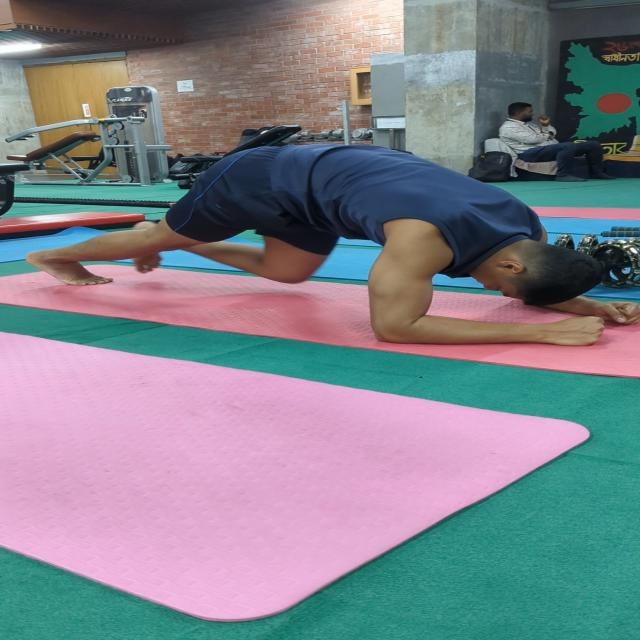Normal_MountainClimbers: (18, 110, 640, 371)
